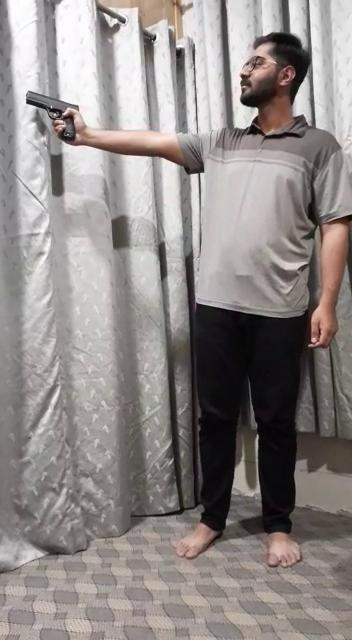criminal: (25, 30, 352, 568)
weapon: (25, 86, 83, 144)
